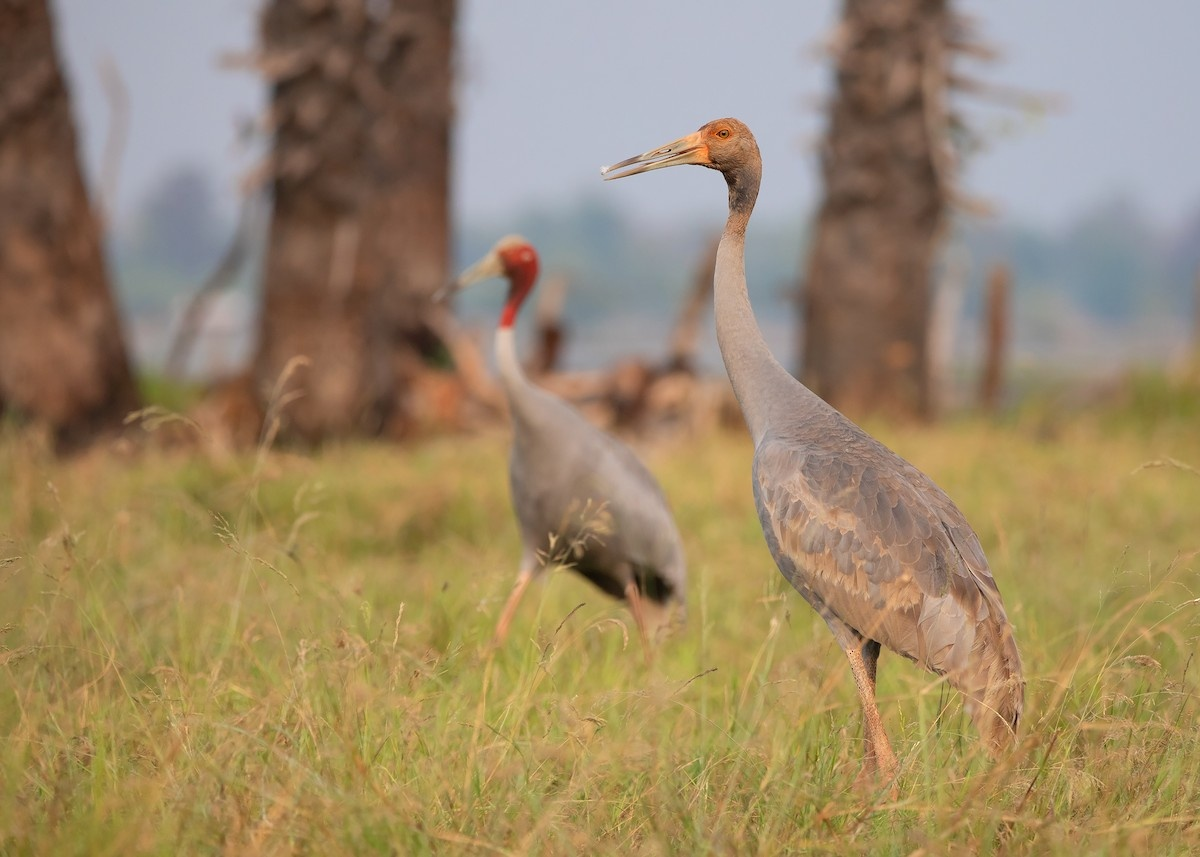crane: (600, 106, 1108, 822), (437, 219, 688, 649)
